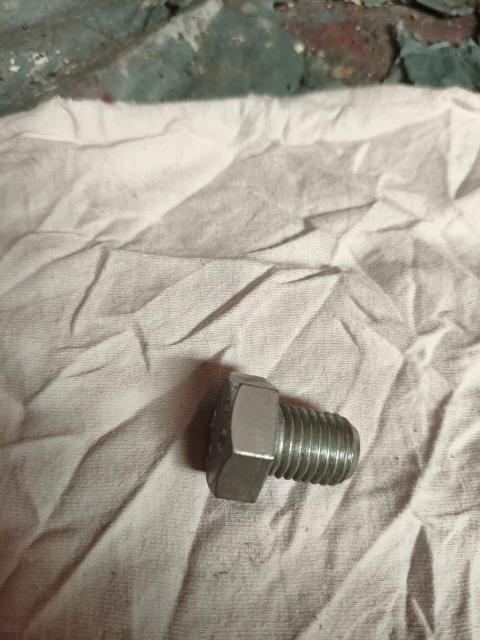Metal: (193, 365, 370, 513)
